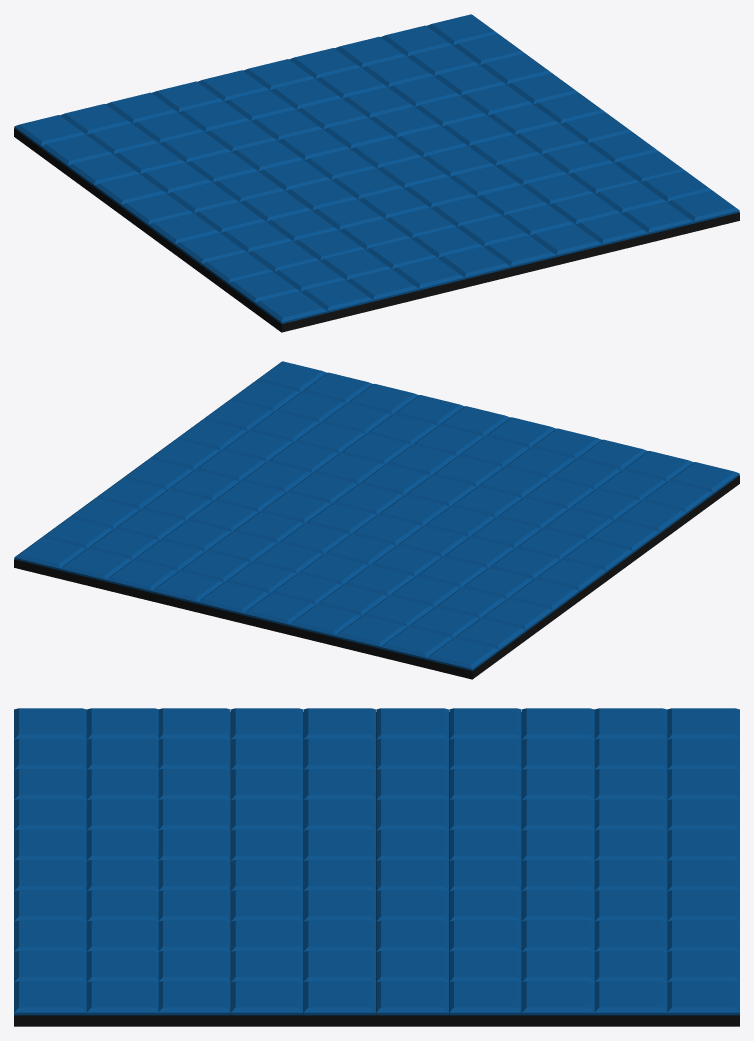
Rendered from floor_tier9.fbx.
3 renders of one model, top to bottom at view 1: azimuth 30°, elevation 25°; view 2: azimuth 150°, elevation 25°; view 3: azimuth 270°, elevation 25°, orthographic. The views are drawn at different scales.
Visible parts, largest first — view 1: Cube.001, Cube.101, Cube.098, Cube.093, Cube.094, Cube.097, Cube.100, Cube.092, Cube.095, Cube.096, Cube.099, Cube.041 (+89 smaller); view 2: Cube.001, Cube.010, Cube.006, Cube.007, Cube.011, Cube.002, Cube.005, Cube.009, Cube.003, Cube.004, Cube.008, Cube.051 (+89 smaller); view 3: Cube.001, Cube.012, Cube.011, Cube.032, Cube.042, Cube.092, Cube.072, Cube.082, Cube.022, Cube.052, Cube.062, Cube.015 (+89 smaller).
Boxes of the visible parts, x1,y1,x2,y2 form: Cube.001: (14,128,739,332); Cube.101: (255,291,327,323); Cube.098: (392,257,464,290); Cube.093: (621,202,693,234); Cube.094: (576,213,648,245); Cube.097: (438,246,510,279); Cube.100: (301,280,373,312); Cube.092: (667,190,739,223); Cube.095: (530,224,602,256); Cube.096: (484,235,556,267); Cube.099: (347,269,418,301); Cube.041: (94,174,166,206); Cube.001: (14,475,739,679); Cube.010: (426,638,498,670); Cube.006: (243,593,315,626); Cube.007: (289,604,361,637); Cube.011: (14,537,86,570); Cube.002: (60,549,132,581); Cube.005: (197,582,269,614); Cube.009: (380,627,452,659); Cube.003: (106,560,177,592); Cube.004: (151,571,223,603); Cube.008: (335,616,406,648); Cube.051: (534,559,606,592); Cube.001: (14,712,739,1026); Cube.012: (594,981,667,1015); Cube.011: (667,981,739,1015); Cube.032: (449,981,521,1015); Cube.042: (376,981,448,1015); Cube.092: (14,981,86,1015); Cube.072: (158,981,230,1015); Cube.082: (86,981,159,1015); Cube.022: (522,981,594,1015); Cube.052: (303,981,375,1015); Cube.062: (231,981,303,1015); Cube.015: (594,890,667,921).
Bounding box in the file's own units: 654 × 17.35 × 662.
